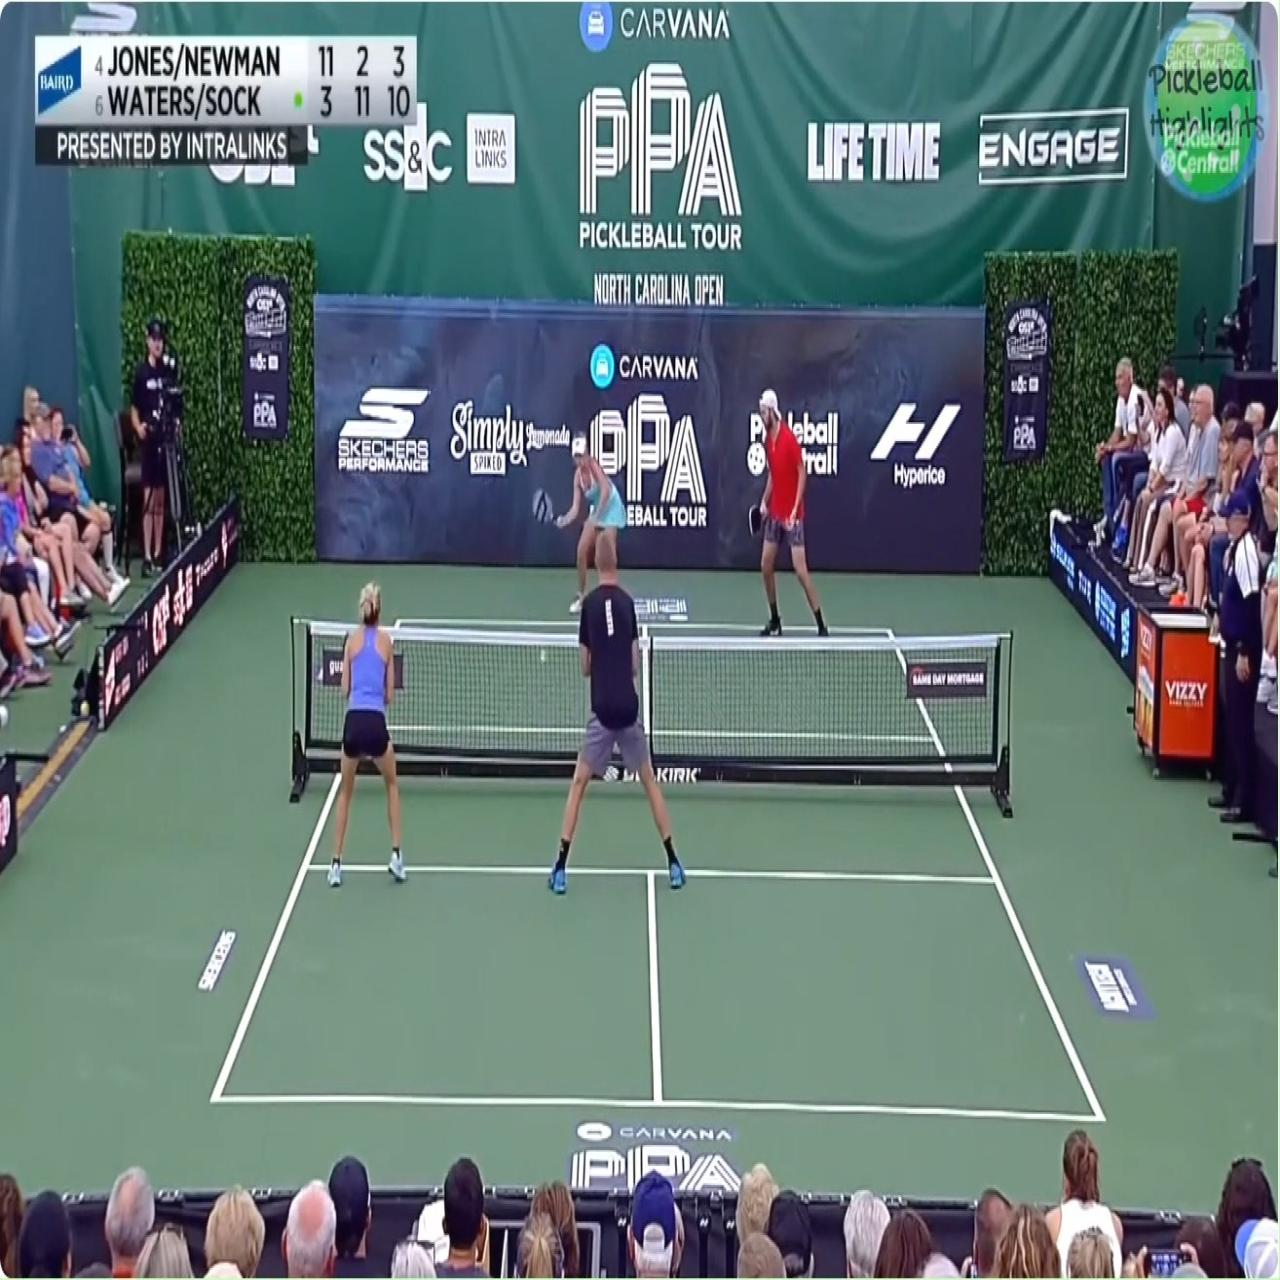pickleball: (539, 649, 546, 662)
